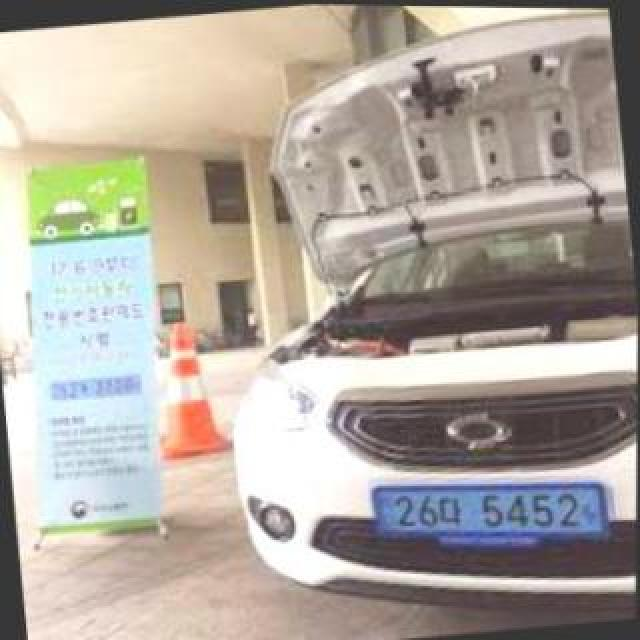EV_plate: (374, 479, 614, 551)
car: (230, 14, 640, 612)
